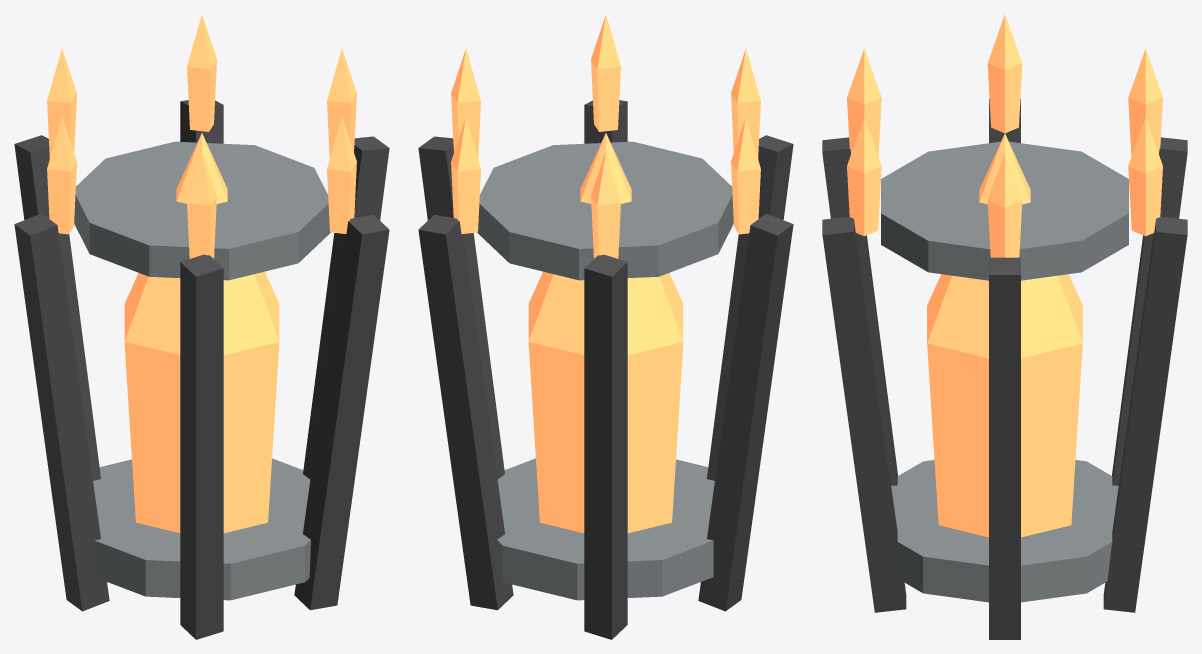
The model's file is boss-fader-ashheart.glb.
The picture shows the model from 3 angles, left to right: view 1: azimuth 30°, elevation 25°; view 2: azimuth 150°, elevation 25°; view 3: azimuth 270°, elevation 25°; orthographic projection.
Parts seen in each view (by area): view 1: ash-core, ash-band-high, cage-rib-1, cage-rib-2, cage-rib-3, ash-band-low, cage-rib-4, cage-rib-0, ember-tip-5, ember-tip-1, ember-tip-3, ember-tip-2 (+3 smaller); view 2: ash-core, ash-band-high, cage-rib-5, cage-rib-4, cage-rib-3, ash-band-low, cage-rib-2, cage-rib-0, ember-tip-1, ember-tip-5, ember-tip-3, ember-tip-4 (+3 smaller); view 3: ash-core, ash-band-high, ash-band-low, cage-rib-1, cage-rib-5, cage-rib-0, cage-rib-2, cage-rib-4, ember-tip-3, ember-tip-1, ember-tip-5, ember-tip-0 (+2 smaller).
Boxes of the visible parts, x1,y1,x2,y2 form: ash-core: (124,133,279,533); ash-band-high: (74,141,330,280); cage-rib-1: (294,214,389,610); cage-rib-2: (180,254,223,639); cage-rib-3: (14,213,109,611); ash-band-low: (93,458,310,600); cage-rib-4: (14,135,100,480); cage-rib-0: (303,136,389,478); ember-tip-5: (187,15,216,131); ember-tip-1: (327,117,356,233); ember-tip-3: (47,117,76,234); ember-tip-2: (187,151,216,258); ash-core: (528,133,683,533); ash-band-high: (477,141,733,280); cage-rib-5: (418,214,513,610); cage-rib-4: (584,254,627,639); cage-rib-3: (698,213,793,611); ash-band-low: (497,458,714,600); cage-rib-2: (707,135,793,480); cage-rib-0: (418,136,504,478); ember-tip-1: (591,15,620,131); ember-tip-5: (451,117,480,233); ember-tip-3: (731,117,760,234); ember-tip-4: (591,151,620,258); ash-core: (927,133,1082,537); ash-band-high: (881,141,1128,280); ash-band-low: (891,460,1118,602); cage-rib-1: (822,216,906,612); cage-rib-5: (1103,216,1187,612); cage-rib-0: (989,257,1020,639); cage-rib-2: (822,137,897,485); cage-rib-4: (1112,137,1187,485); ember-tip-3: (987,14,1022,133); ember-tip-1: (847,117,881,236); ember-tip-5: (1128,117,1162,236); ember-tip-0: (987,152,1022,257).
Bounding box in the file's own units: 0.7188 × 0.9426 × 0.6303.
